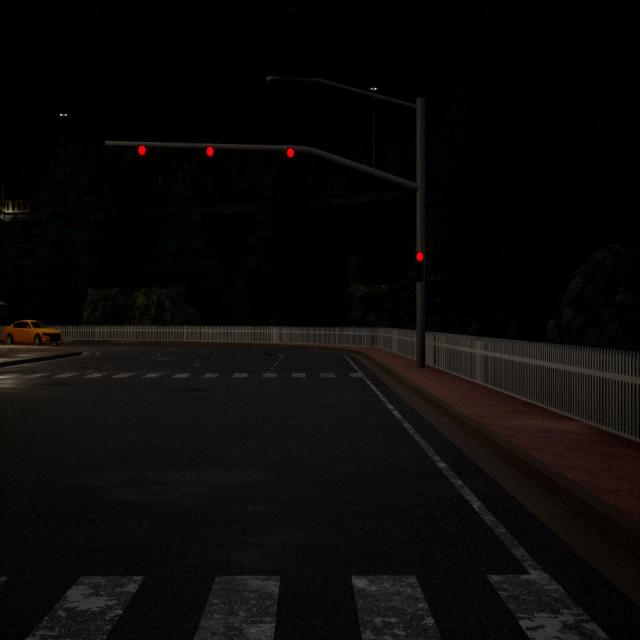Vehicle: (3, 320, 61, 345)
traffic_light: (416, 250, 424, 280), (138, 144, 147, 156), (286, 148, 295, 159), (206, 146, 213, 158)
